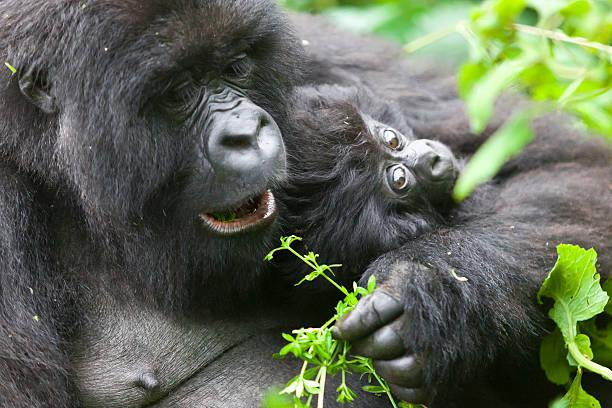goriile_montagne: (0, 0, 319, 408), (283, 76, 487, 314)
